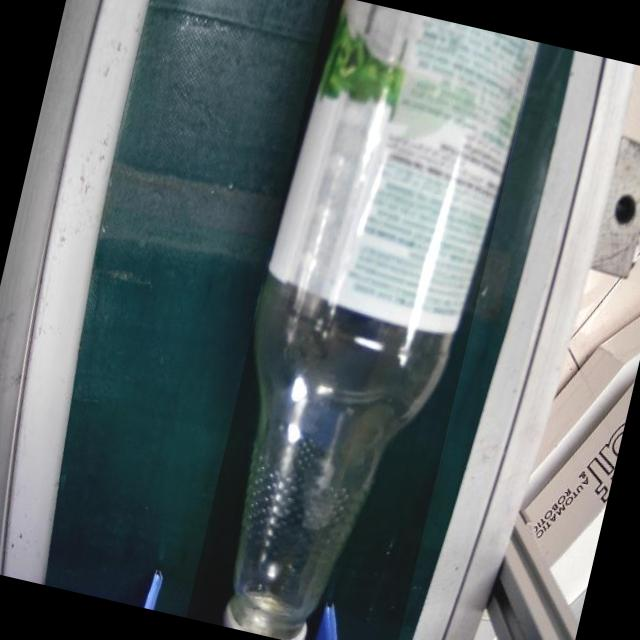BotolKaca: (181, 0, 541, 640)
